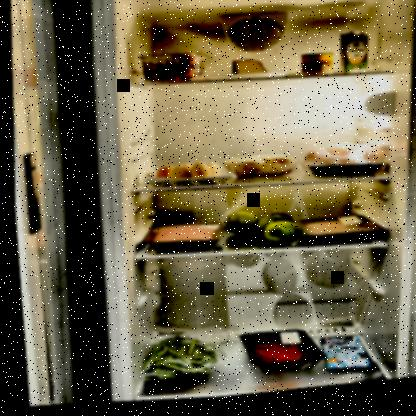apple: (214, 210, 304, 259)
beef: (228, 327, 322, 384)
cheese: (227, 60, 272, 87)
chicken: (297, 140, 384, 190), (287, 214, 383, 258)
chocolate: (311, 338, 371, 381)
corn: (296, 55, 336, 85)
eggs: (151, 161, 221, 190)
green_beans: (133, 327, 228, 391)
ground_beef: (137, 221, 220, 261)
heavy_cream: (336, 34, 369, 82)
strawberries: (135, 53, 205, 89)
